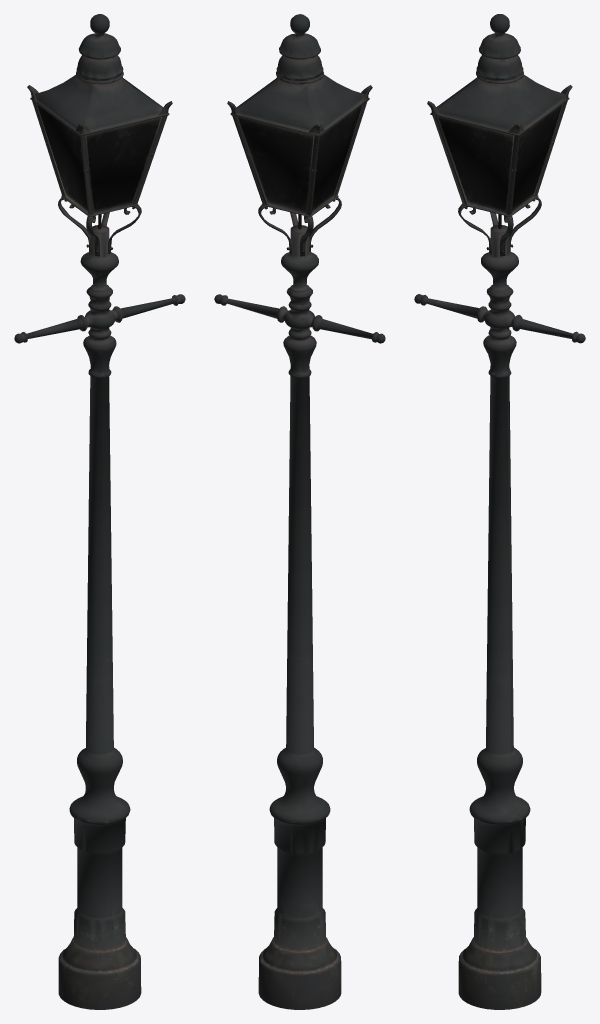
File: street_lamp_01.glb
The picture shows the model from 3 angles, left to right: view 1: azimuth 30°, elevation 25°; view 2: azimuth 150°, elevation 25°; view 3: azimuth 330°, elevation 25°; orthographic projection.
Parts seen in each view (by area): view 1: street_lamp_01; view 2: street_lamp_01; view 3: street_lamp_01.
Boxes of the visible parts, x1,y1,x2,y2 form: street_lamp_01: [14, 14, 185, 1009]; street_lamp_01: [214, 14, 385, 1009]; street_lamp_01: [414, 14, 585, 1009].
Bounding box in the file's own units: 0.7031 × 3.87 × 0.386.
Materials: 2 (2 with a texture image).
